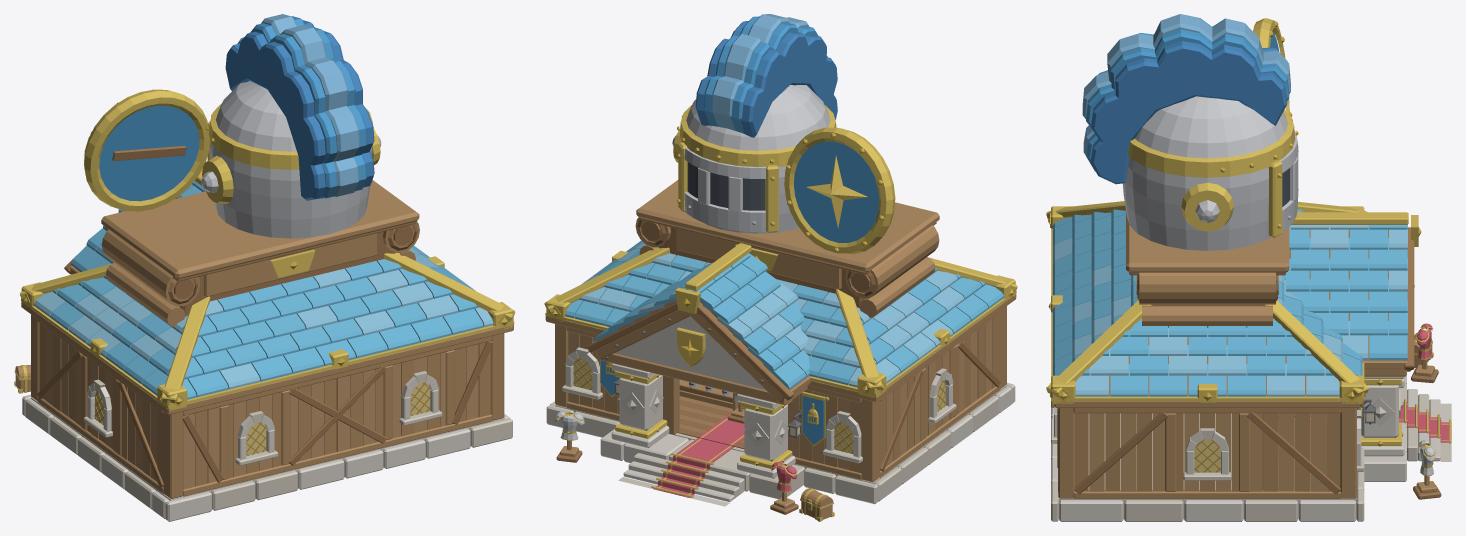
The model's file is your_gear_roblox.glb.
3 views of the same model, side by side, from view 1: azimuth 30°, elevation 25°; view 2: azimuth 150°, elevation 25°; view 3: azimuth 270°, elevation 25° (orthographic). The views are drawn at different scales.
Parts seen in each view (by area): view 1: Landmark, Body, Roof, Glow_ffcf55; view 2: Body, Landmark, Roof, Glow_ffcf55; view 3: Body, Landmark, Roof, Glow_ffcf55.
Boxes of the visible parts, <box> form: Landmark: <box>84,14,419,326</box>; Body: <box>14,169,512,521</box>; Roof: <box>20,245,515,498</box>; Glow_ffcf55: <box>95,382,430,456</box>; Body: <box>546,243,1015,521</box>; Landmark: <box>635,14,939,317</box>; Roof: <box>544,240,1017,482</box>; Glow_ffcf55: <box>573,358,945,453</box>; Body: <box>1051,212,1451,521</box>; Landmark: <box>1082,14,1298,327</box>; Roof: <box>1046,201,1368,498</box>; Glow_ffcf55: <box>1194,439,1220,472</box>.
Bounding box in the file's own units: 38.83 × 42.06 × 36.21.
